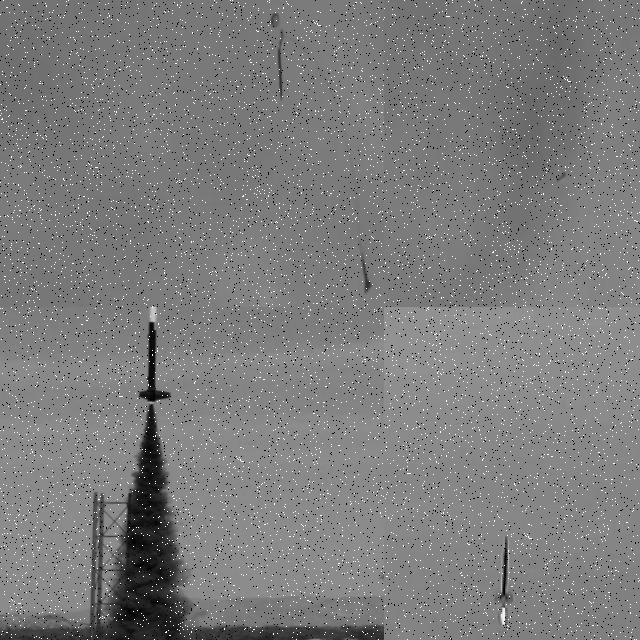Rocket: (137, 307, 172, 405), (494, 535, 514, 607), (360, 251, 374, 296), (557, 172, 566, 182)
